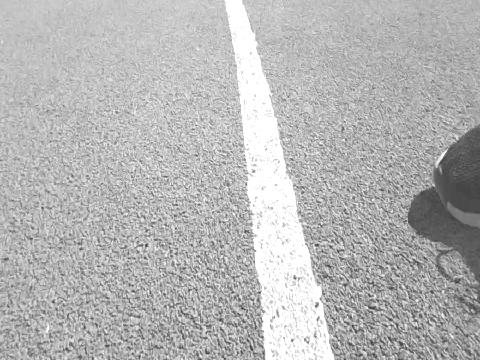Lines: (223, 0, 337, 360)
